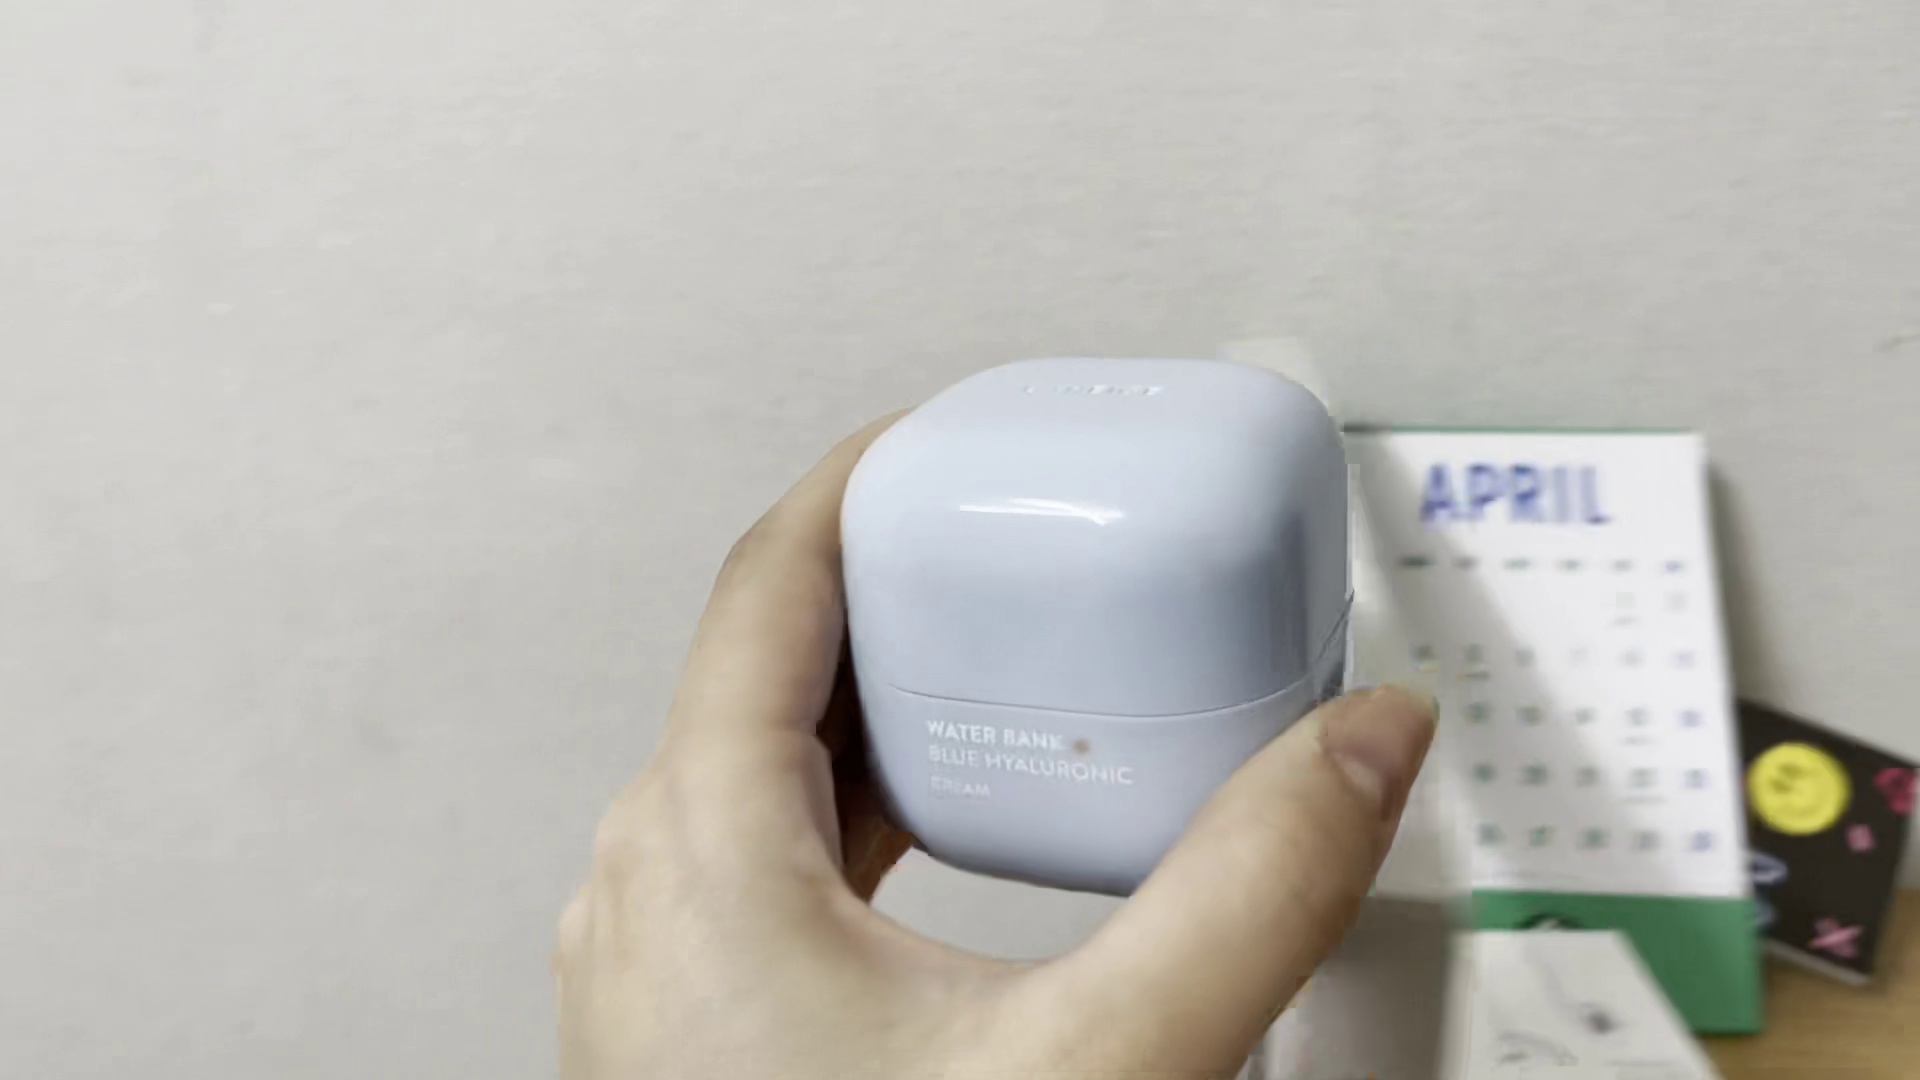cream: (844, 352, 1350, 887)
